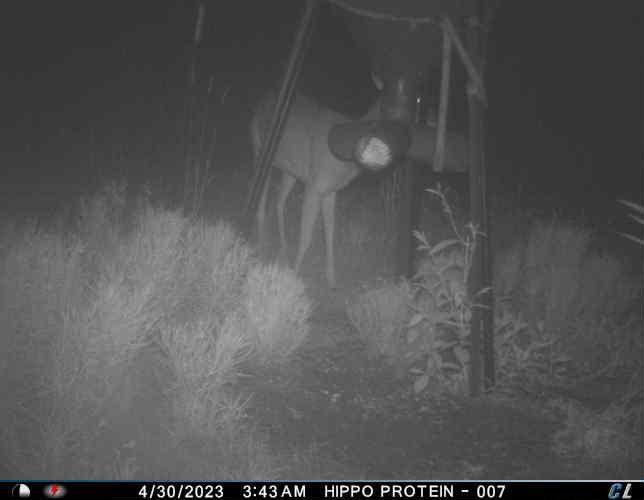Deer: (244, 66, 421, 294)
